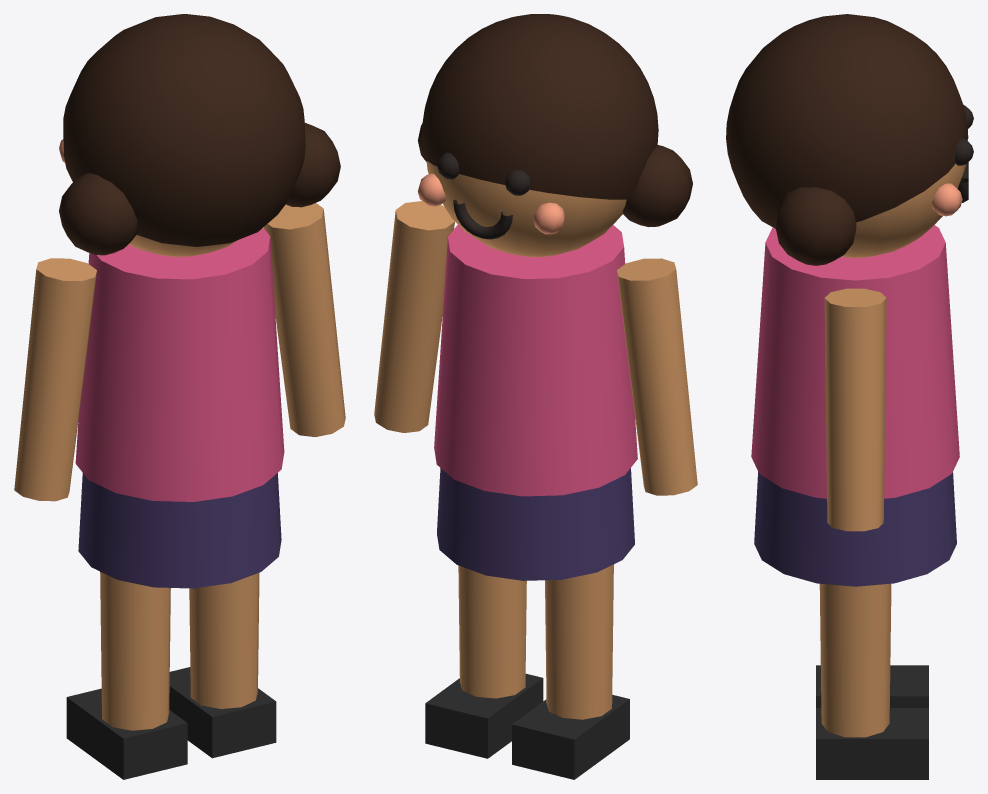
File: person_e2588a.fbx
The picture shows the model from 3 angles, left to right: view 1: azimuth 30°, elevation 25°; view 2: azimuth 150°, elevation 25°; view 3: azimuth 270°, elevation 25°; orthographic projection. The views are drawn at different scales.
Parts seen in each view (by area): view 1: M__person_e2588a-body, M__person_e2588a-armL, M__person_e2588a-armR, M__person_e2588a-shinL, M__person_e2588a-shinR, M__person_e2588a-legL, M__person_e2588a-legR; view 2: M__person_e2588a-body, M__person_e2588a-armL, M__person_e2588a-armR, M__person_e2588a-shinL, M__person_e2588a-shinR, M__person_e2588a-legL, M__person_e2588a-legR; view 3: M__person_e2588a-body, M__person_e2588a-armR, M__person_e2588a-shinR, M__person_e2588a-legR, M__person_e2588a-shinL.
Part boxes in pixels (bbox=[...]): M__person_e2588a-body: bbox=[59, 14, 340, 588]; M__person_e2588a-armL: bbox=[14, 258, 96, 501]; M__person_e2588a-armR: bbox=[263, 203, 345, 436]; M__person_e2588a-shinL: bbox=[66, 621, 187, 779]; M__person_e2588a-shinR: bbox=[169, 600, 276, 758]; M__person_e2588a-legL: bbox=[100, 571, 170, 638]; M__person_e2588a-legR: bbox=[189, 573, 259, 616]; M__person_e2588a-body: bbox=[417, 14, 692, 580]; M__person_e2588a-armL: bbox=[617, 258, 697, 495]; M__person_e2588a-armR: bbox=[374, 201, 454, 432]; M__person_e2588a-shinL: bbox=[512, 613, 629, 779]; M__person_e2588a-shinR: bbox=[425, 591, 543, 758]; M__person_e2588a-legL: bbox=[545, 564, 613, 629]; M__person_e2588a-legR: bbox=[458, 565, 526, 608]; M__person_e2588a-body: bbox=[726, 14, 973, 586]; M__person_e2588a-armR: bbox=[824, 288, 886, 531]; M__person_e2588a-shinR: bbox=[816, 632, 928, 779]; M__person_e2588a-legR: bbox=[819, 583, 891, 645]; M__person_e2588a-shinL: bbox=[816, 665, 928, 707].
Bounding box in the file's own units: 0.6547 × 1.4 × 0.4399.
